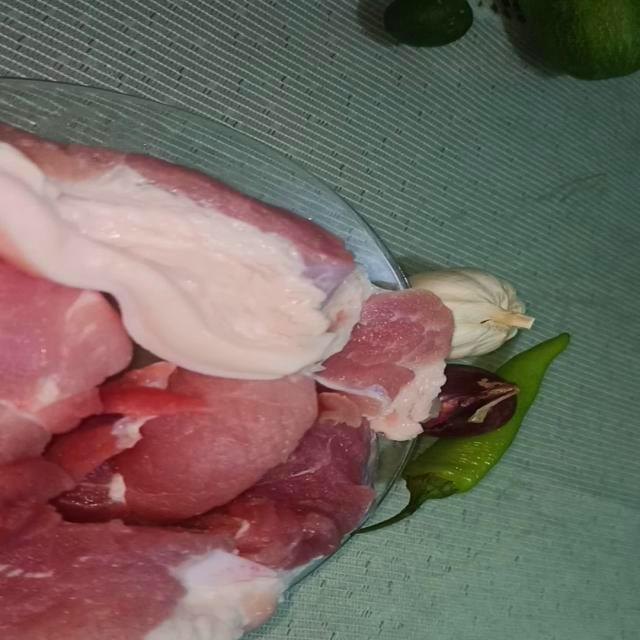chili_pepper: (353, 337, 581, 568)
garlic: (409, 262, 527, 365)
onion: (385, 359, 519, 454)
pork: (0, 122, 385, 380), (0, 481, 349, 640), (53, 345, 320, 537), (0, 265, 130, 475), (243, 385, 412, 532)
